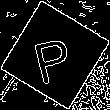P_N: (31, 26, 79, 84)
